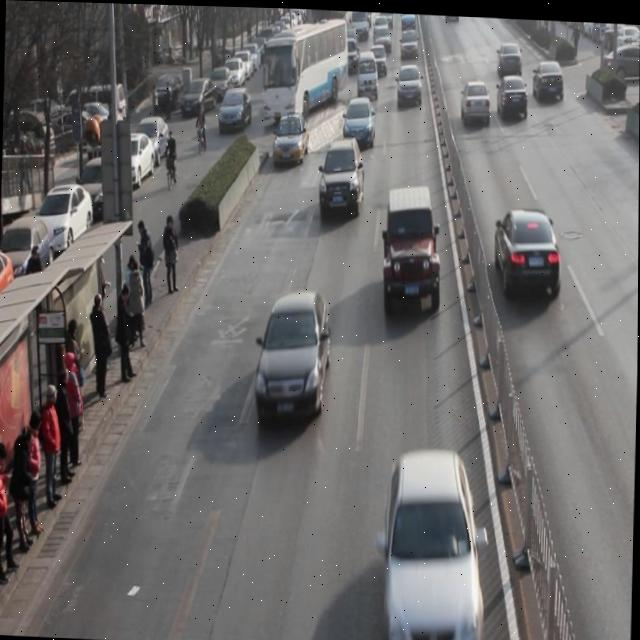car: (384, 446, 489, 640), (254, 286, 332, 424), (384, 182, 443, 315), (494, 201, 563, 299), (317, 135, 366, 219), (272, 109, 311, 163), (342, 93, 377, 147), (601, 36, 640, 80), (496, 69, 528, 118), (532, 56, 565, 102), (461, 76, 492, 123), (396, 60, 424, 107), (497, 38, 523, 75), (368, 41, 388, 75)
truck: (356, 47, 380, 99)
van: (260, 12, 346, 124)
